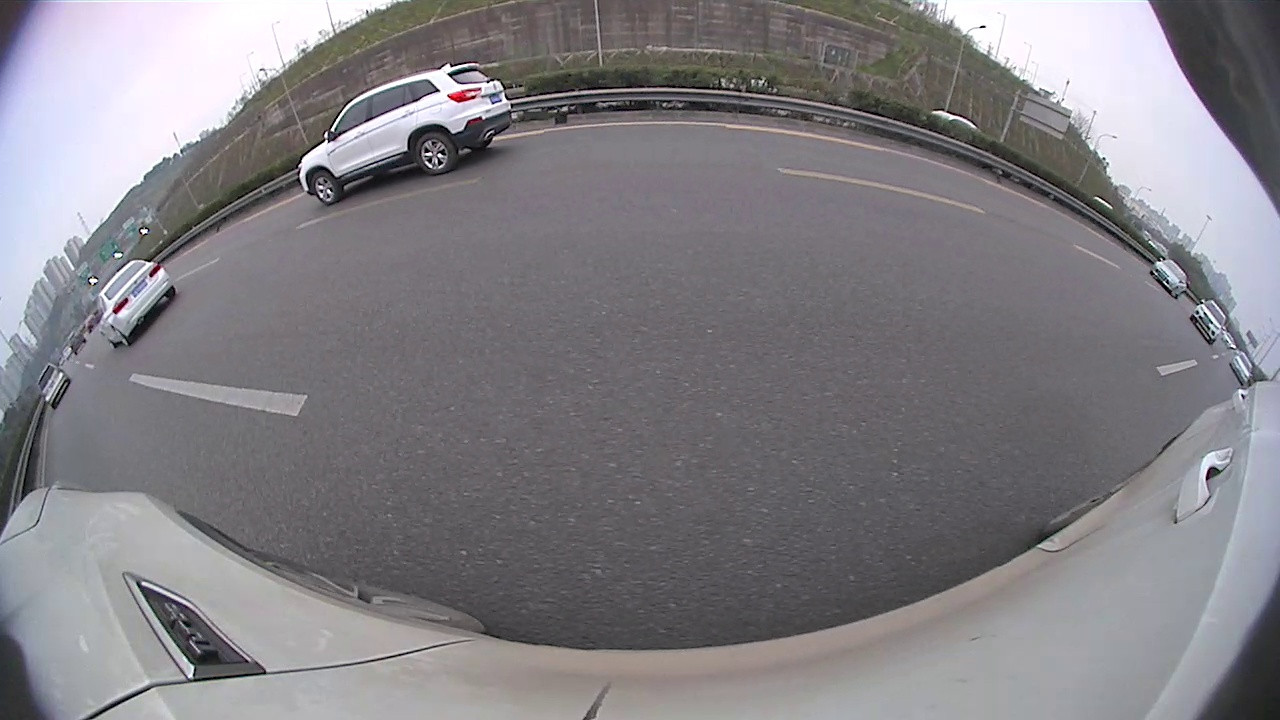car: (293, 58, 515, 207), (92, 256, 177, 349), (1190, 297, 1230, 347), (35, 360, 73, 412), (1148, 256, 1191, 299), (1229, 350, 1255, 386)
front: (312, 171, 338, 205)
rear: (414, 134, 452, 175)
